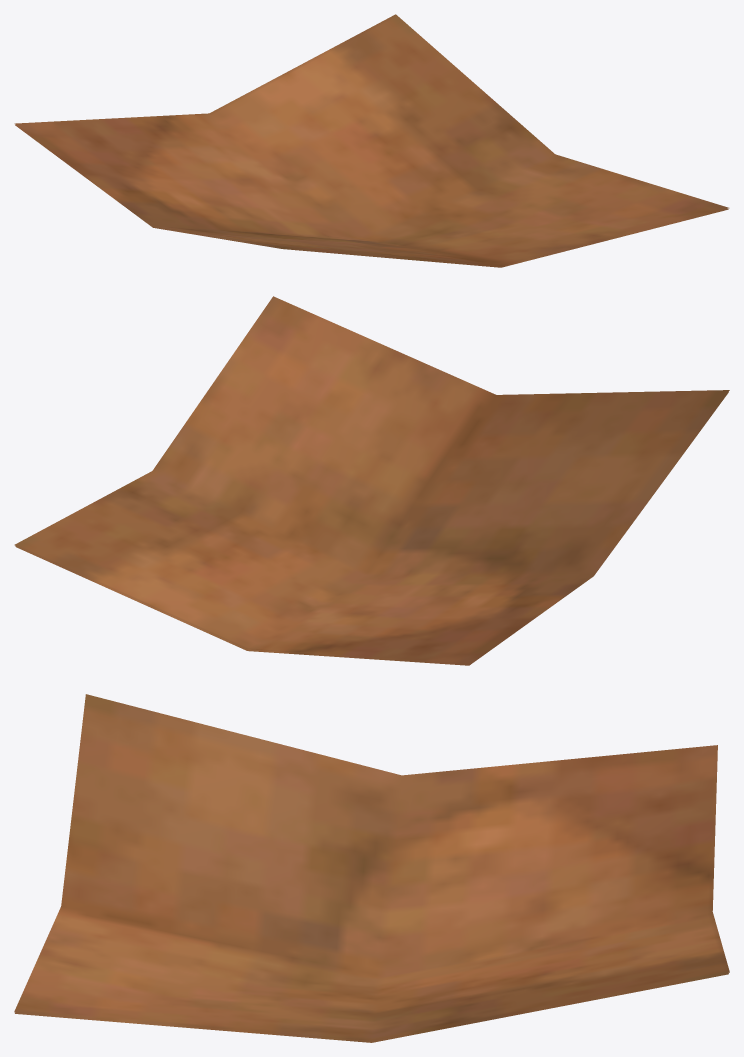
The model's file is thm_tato_jawa_tent_small_l3.fbx.
3 views of the same model, one above another, from view 1: azimuth 30°, elevation 25°; view 2: azimuth 150°, elevation 25°; view 3: azimuth 270°, elevation 25° (orthographic). The views are drawn at different scales.
Visible parts, largest first — view 1: mesh_node; view 2: mesh_node; view 3: mesh_node.
Part boxes in pixels (bbox=[...]): mesh_node: bbox=[14, 14, 729, 267]; mesh_node: bbox=[14, 296, 729, 665]; mesh_node: bbox=[14, 694, 729, 1042].
Size of the model in its own units: 4.8 by 1.31 by 5.24.
Materials: 1 (1 with a texture image).
